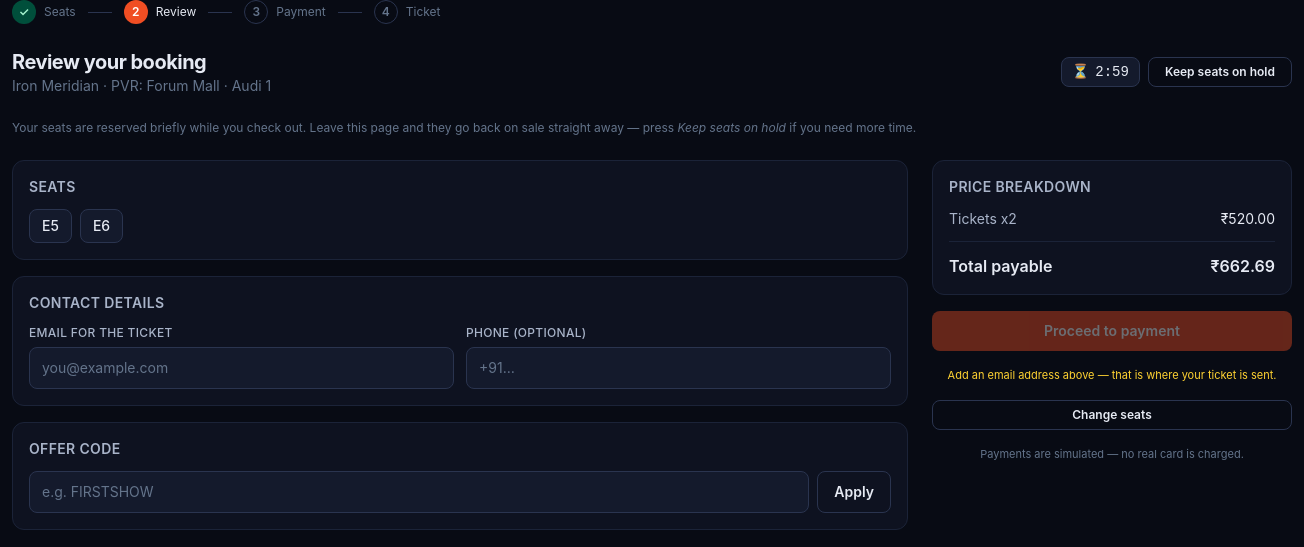
Scenario: Checkout › stays disabled for a guest until they type an email, and says why
Check: the heading "Review your booking" is shown, box [12,50,206,74]
Check: the button "Proceed to payment" is disabled, box [932,311,1292,351]
Type "guest@example.com" into the field labelled "Email for the ticket" at (242, 368), box [29,347,454,389]
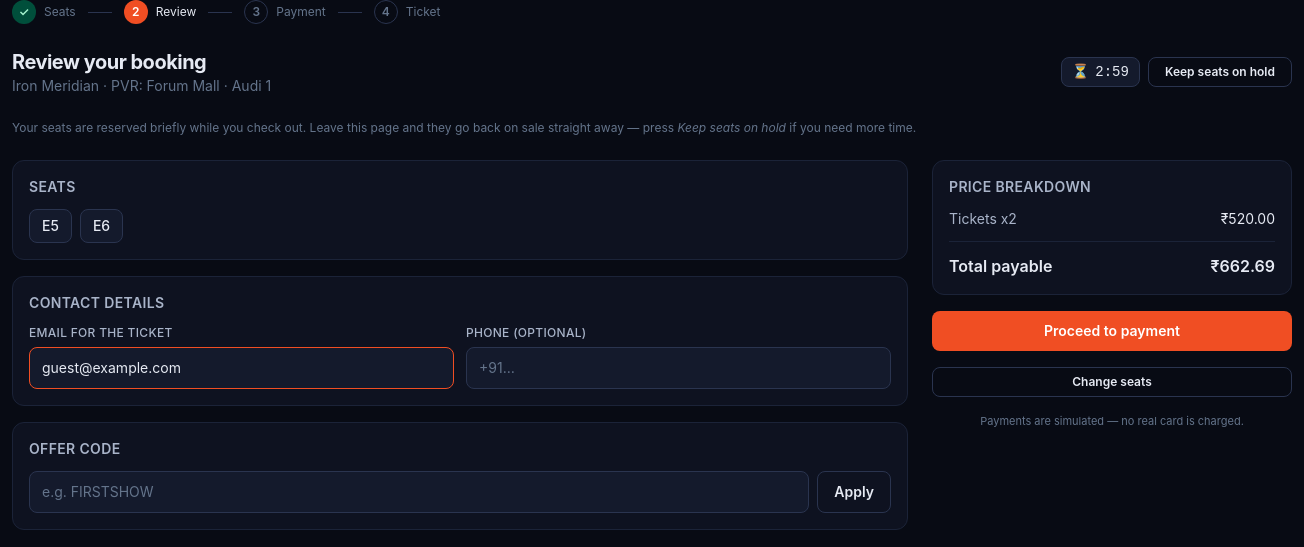
Check: the button "Proceed to payment" is enabled, box [932,311,1292,351]
